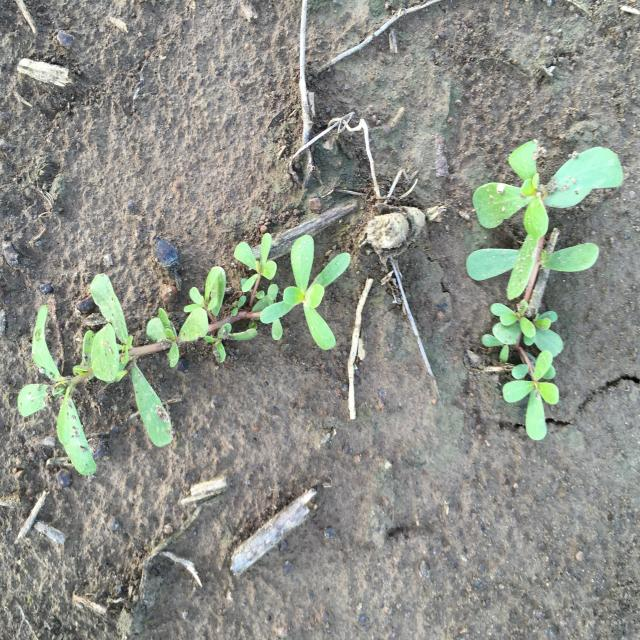Purslane: (17, 233, 351, 475), (465, 141, 624, 440)
